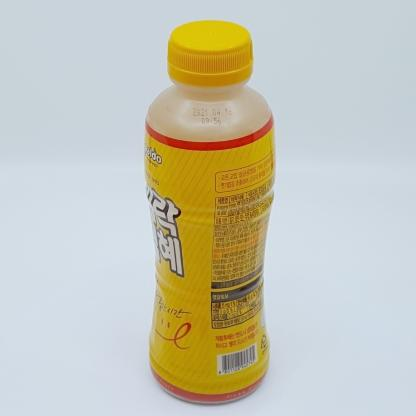------500ML: (144, 19, 276, 405)
